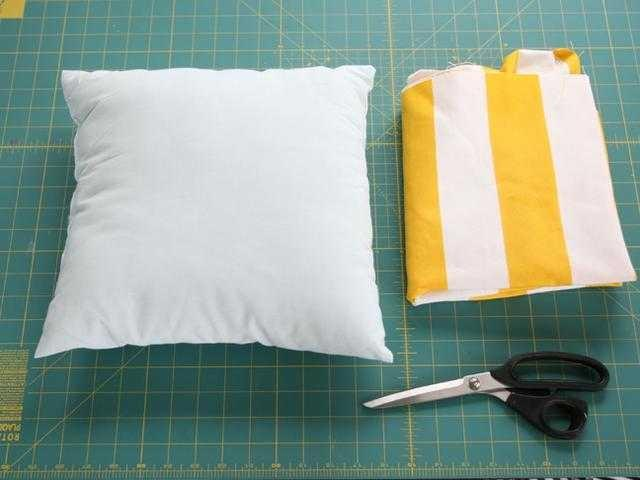pillow: (33, 63, 394, 363)
